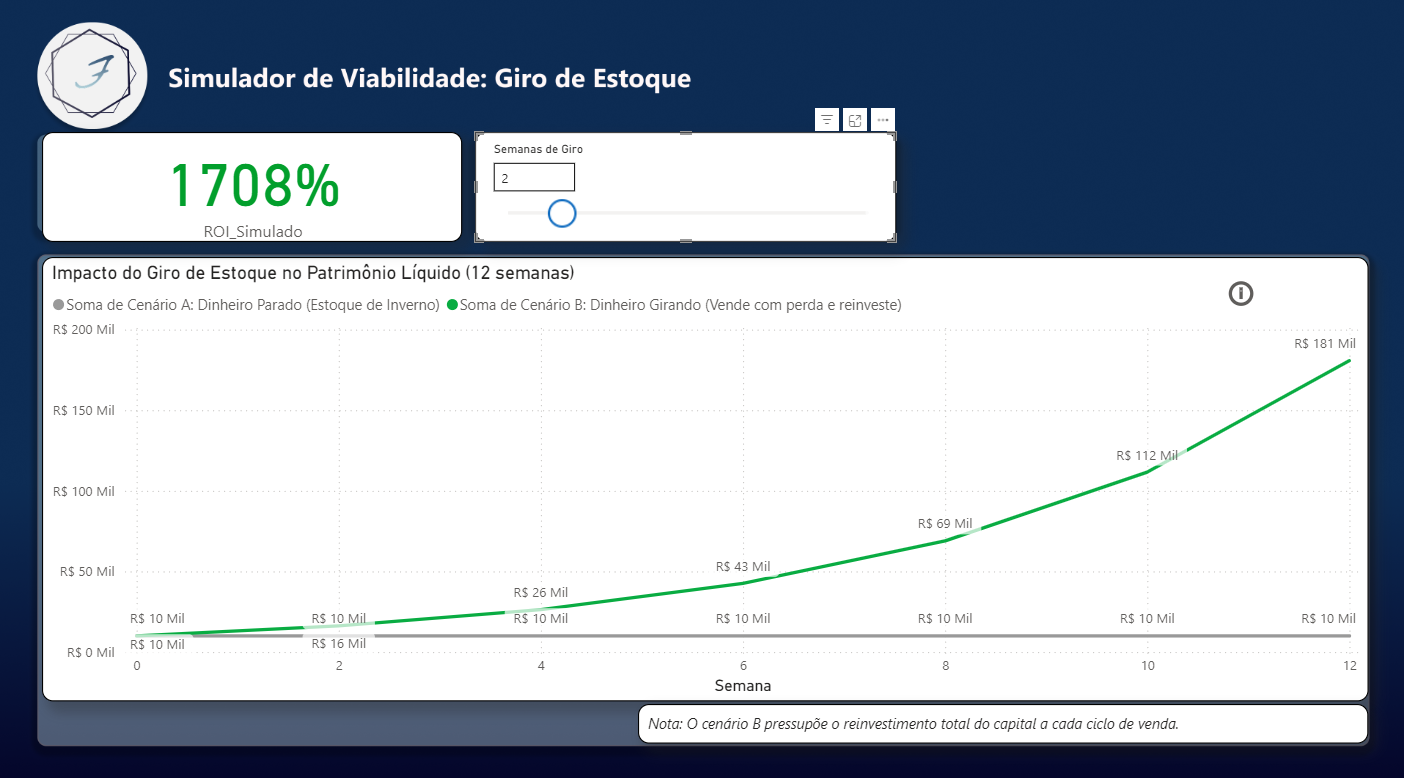

What the dashboard file says about the page in this screenshot:
{"tool":"powerbi","page":{"name":"Página 1","canvas":[1280,720],"ordinal":0},"visuals":[{"type":"lineStackedColumnComboChart","title":"Impacto do Giro de Estoque no Patrimônio Líquido (12 semanas)","fields":{"Category":["Página1.Semana"],"Y2":["Sum(Página1.Cenário A: Dinheiro Parado (Estoque de Inverno))","Sum(Página1.Cenário B: Dinheiro Girando (Vende com perda e reinveste))"]},"box":[37.8,234.4,1205.6,404.4],"z":0},{"type":"card","fields":{"Values":["Página1.ROI_Giro"]},"box":[37.8,121.1,382,100],"z":1000},{"type":"slicer","fields":{"Values":["Semanas de Giro.Semanas de Giro"]},"box":[431.8,120.9,382.7,100],"z":2000},{"type":"textbox","box":[580,641.1,664.4,35.6],"z":3000},{"type":"actionButton","box":[1112.4,247.3,31,40.4],"z":5000}]}

Visuals, with their boxes in screenshot pixels (x1, y1, x2, y2), scaled from the page's 1280x720 canvas onto the 1404x778 screenshot:
"Impacto do Giro de Estoque no Patrimônio Líquido (12 semanas)" lineStackedColumnComboChart: <bbox>41, 253, 1364, 690</bbox>
card - Página1.ROI_Giro: <bbox>41, 131, 460, 239</bbox>
slicer - Semanas de Giro.Semanas de Giro: <bbox>474, 131, 893, 239</bbox>
textbox: <bbox>636, 693, 1365, 731</bbox>
actionButton: <bbox>1220, 267, 1254, 311</bbox>
